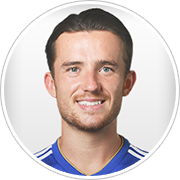face: (41, 45, 138, 125)
